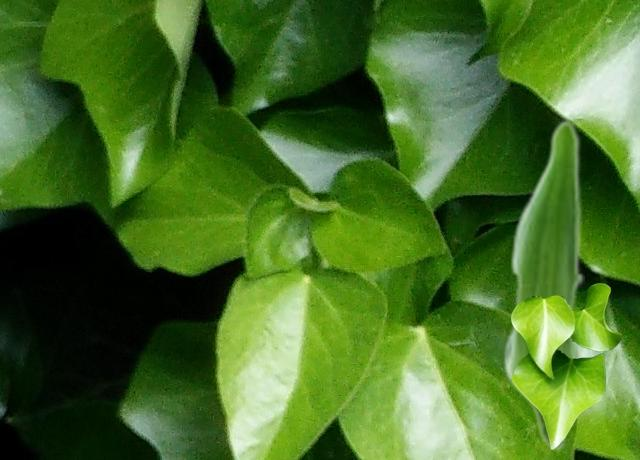okra: (502, 118, 583, 451)
